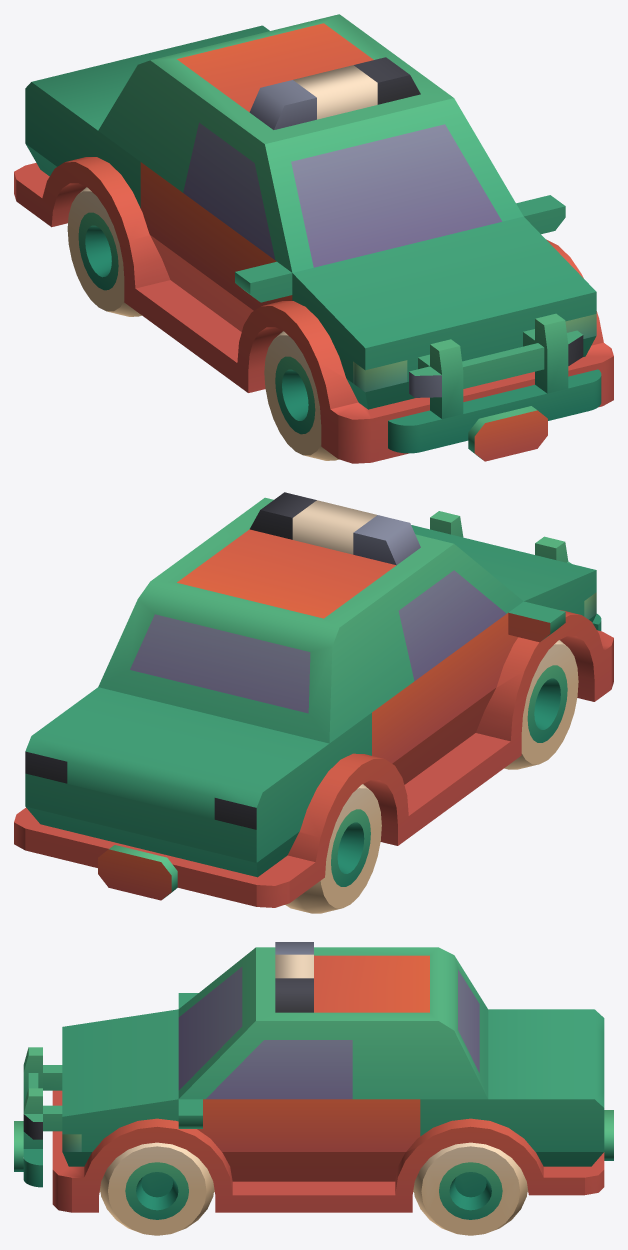
Rendered from police.glb.
3 renders of one model, top to bottom at view 1: azimuth 30°, elevation 25°; view 2: azimuth 150°, elevation 25°; view 3: azimuth 270°, elevation 25°, orthographic. The views are drawn at different scales.
Parts seen in each view (by area): view 1: body, grill, wheel-front-right, wheel-back-right; view 2: body, wheel-back-right, wheel-front-right, grill; view 3: body, wheel-back-left, wheel-front-left, grill.
Part boxes in pixels (x1,y1,x2,y2): body: [14, 14, 613, 463]; grill: [388, 313, 601, 461]; wheel-front-right: [264, 331, 339, 460]; wheel-back-right: [67, 187, 141, 316]; body: [14, 492, 613, 907]; wheel-back-right: [285, 784, 381, 913]; wheel-front-right: [504, 640, 578, 769]; grill: [430, 511, 601, 630]; body: [52, 942, 613, 1212]; wheel-back-left: [413, 1142, 527, 1235]; wheel-front-left: [100, 1142, 214, 1235]; grill: [14, 1047, 62, 1187].
Bounding box in the file's own units: 1.5 × 1.3 × 3.1.
Materials: 1 (1 with a texture image).
